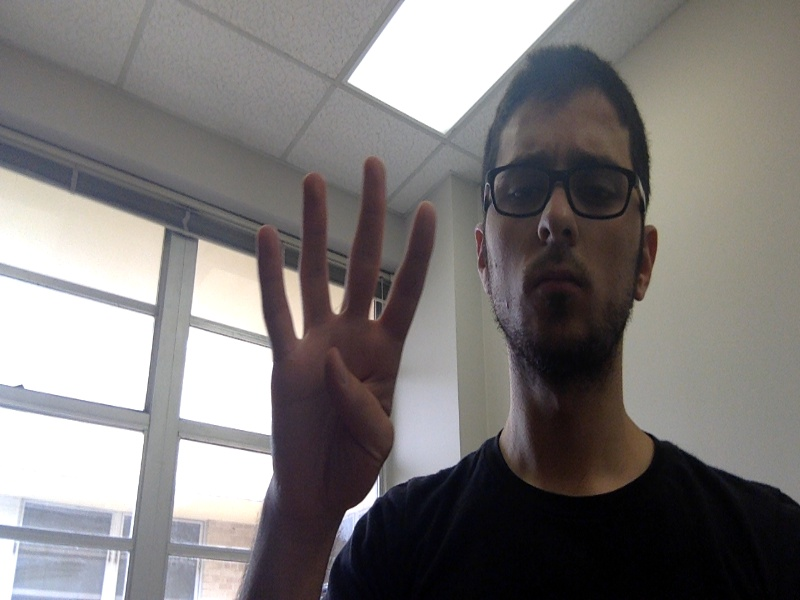4-hand: (259, 158, 436, 498)
